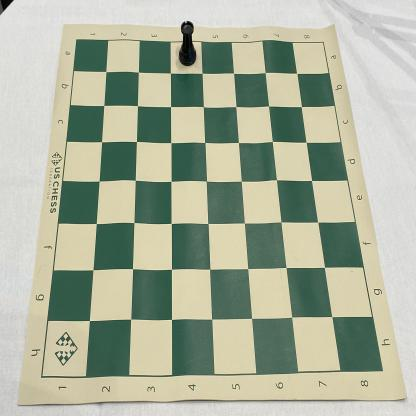black-rook: (179, 21, 197, 66)
